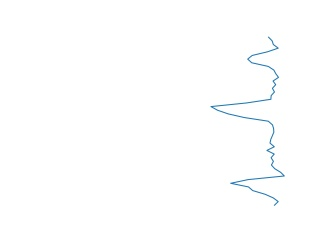underwaterNaturalLevee: (206, 35, 289, 206)
